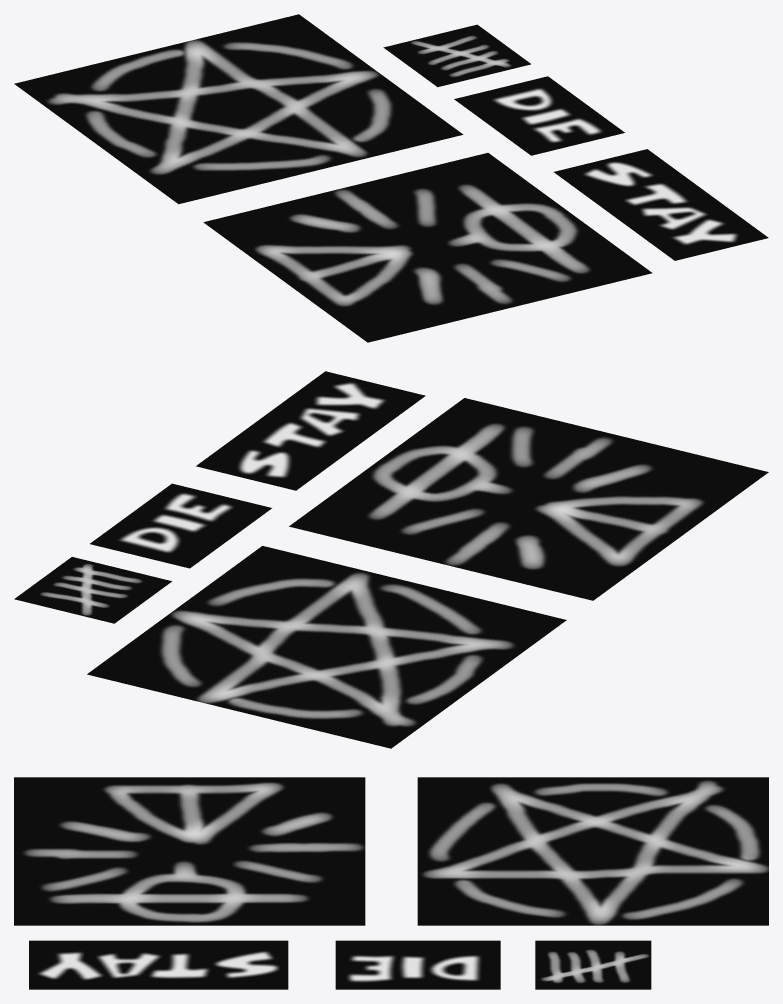
The model's file is GhostTextMeshes.fbx.
3 views of the same model, one above another, from view 1: azimuth 30°, elevation 25°; view 2: azimuth 150°, elevation 25°; view 3: azimuth 270°, elevation 25° (orthographic). The views are drawn at different scales.
Parts seen in each view (by area): view 1: Plane.001, Plane.002, Ghost_Texture, Ghost_Texture.001, Plane; view 2: Plane.002, Plane.001, Ghost_Texture, Ghost_Texture.001, Plane; view 3: Plane.001, Plane.002, Ghost_Texture, Ghost_Texture.001, Plane.
Boxes of the visible parts, left/top/right/bottom form: Plane.001: left=14, top=14, right=463, bottom=204; Plane.002: left=203, top=153, right=652, bottom=342; Ghost_Texture: left=554, top=149, right=768, bottom=260; Ghost_Texture.001: left=454, top=76, right=624, bottom=155; Plane: left=383, top=24, right=530, bottom=87; Plane.002: left=289, top=398, right=768, bottom=600; Plane.001: left=87, top=546, right=566, bottom=748; Ghost_Texture: left=196, top=371, right=425, bottom=490; Ghost_Texture.001: left=90, top=483, right=271, bottom=568; Plane: left=14, top=557, right=171, bottom=623; Plane.001: left=417, top=777, right=768, bottom=925; Plane.002: left=14, top=777, right=365, bottom=925; Ghost_Texture: left=29, top=940, right=288, bottom=989; Ghost_Texture.001: left=335, top=940, right=500, bottom=989; Plane: left=535, top=940, right=651, bottom=989.
Bounding box in the file's own units: 868 × 9.87e-05 × 1303.
